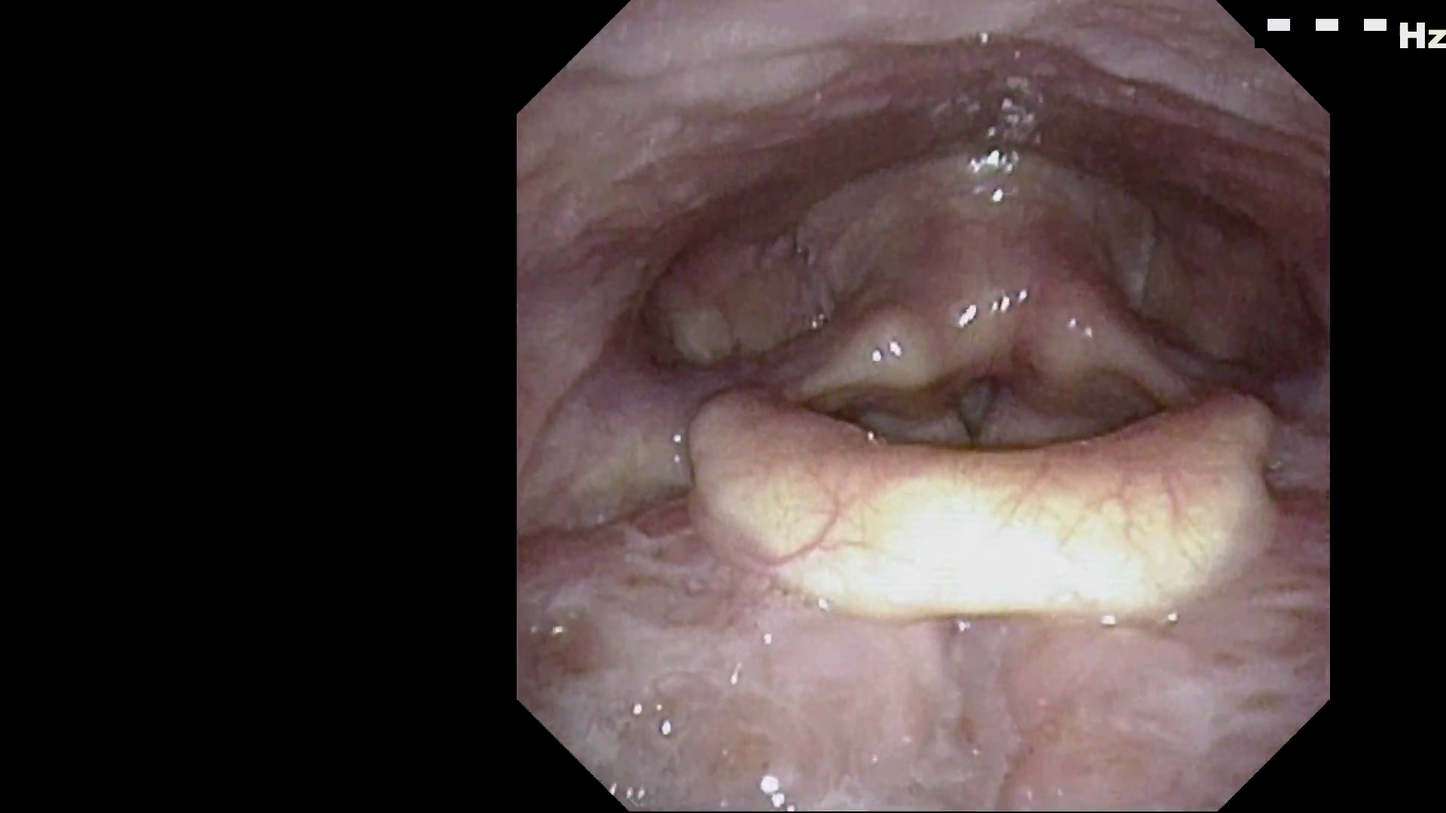epiglottis: (679, 354, 1283, 634)
trachea: (923, 340, 1022, 461)
